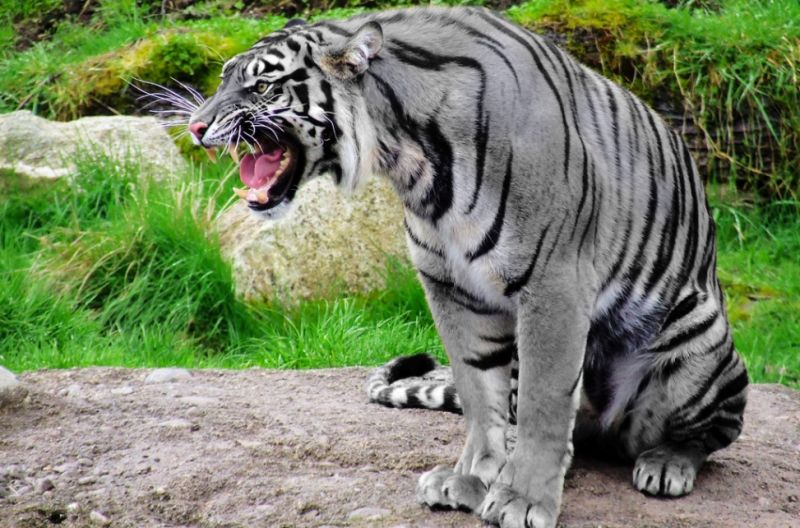Tiger: (165, 8, 760, 528)
